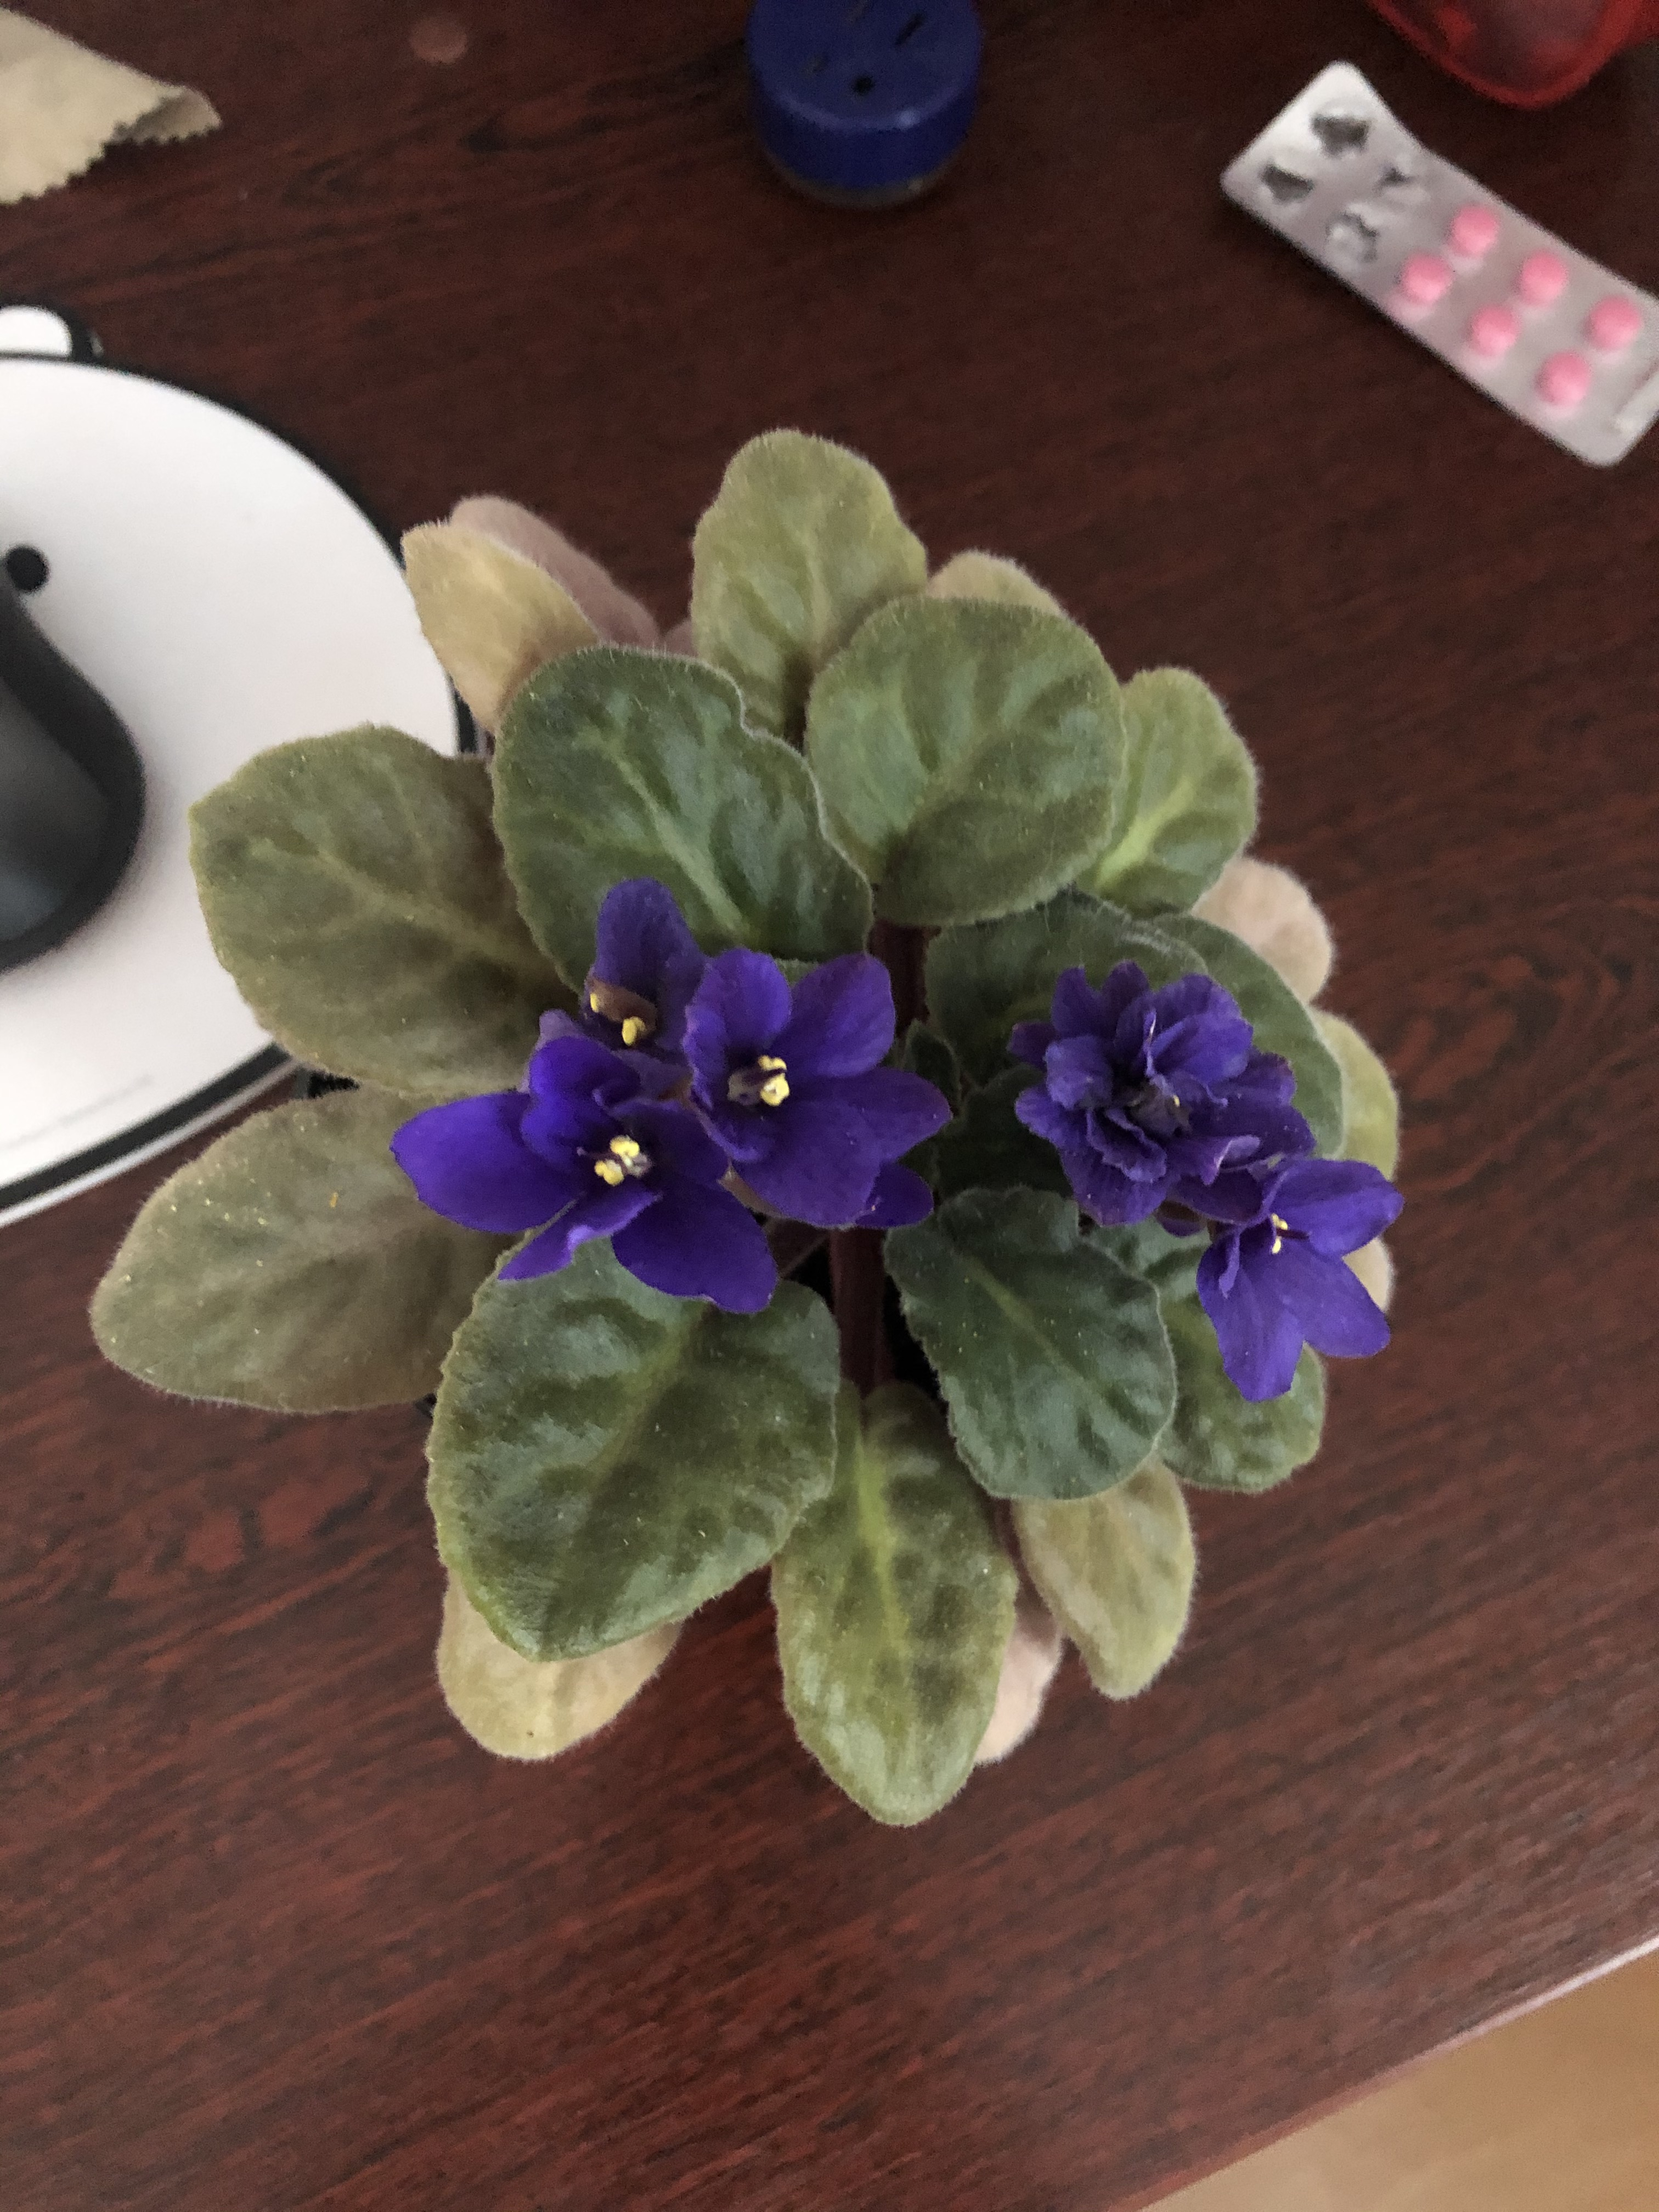ignore: (70, 371, 1518, 1858)
